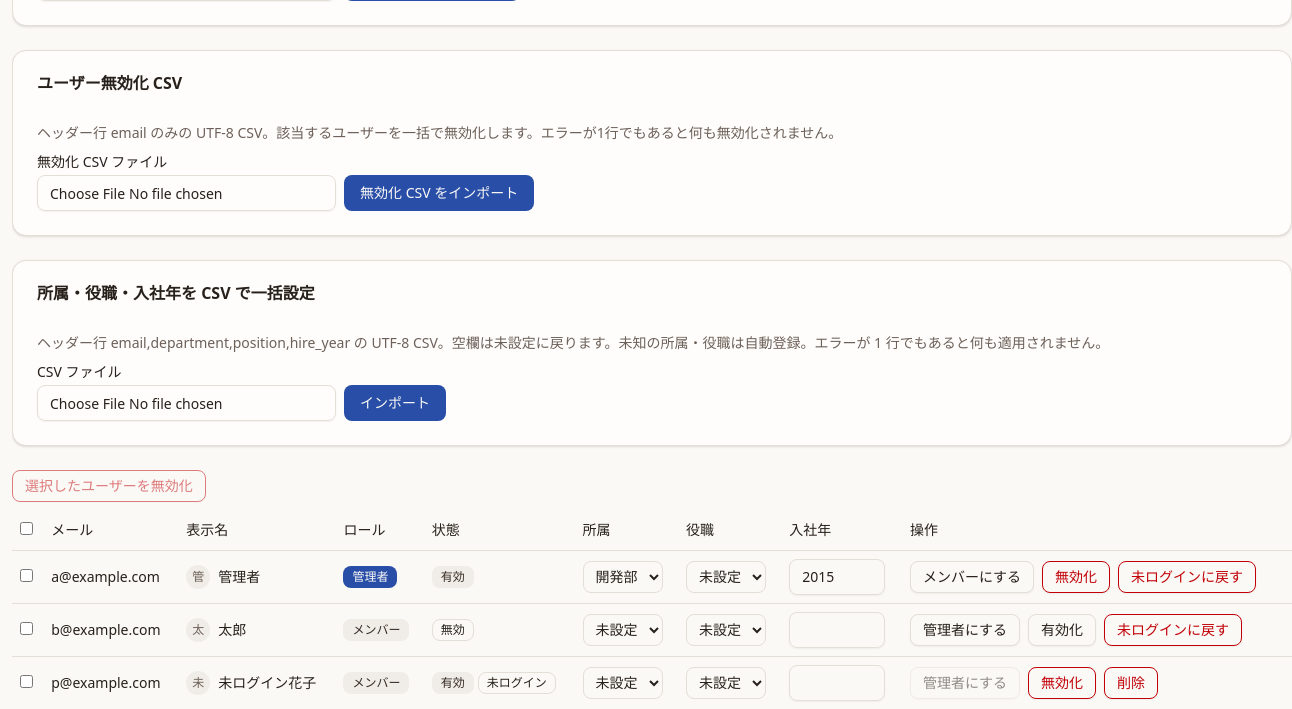
Scenario: AdminUsersPage › 一括無効化に成功すると選択がクリアされ一覧が refetch される
(page scrolled)
expect the text "a@example.com" is shown: met, box [43,550,178,603]
Click the checkbox named "管理者 を選択" at [26, 575], box [20,568,33,582]
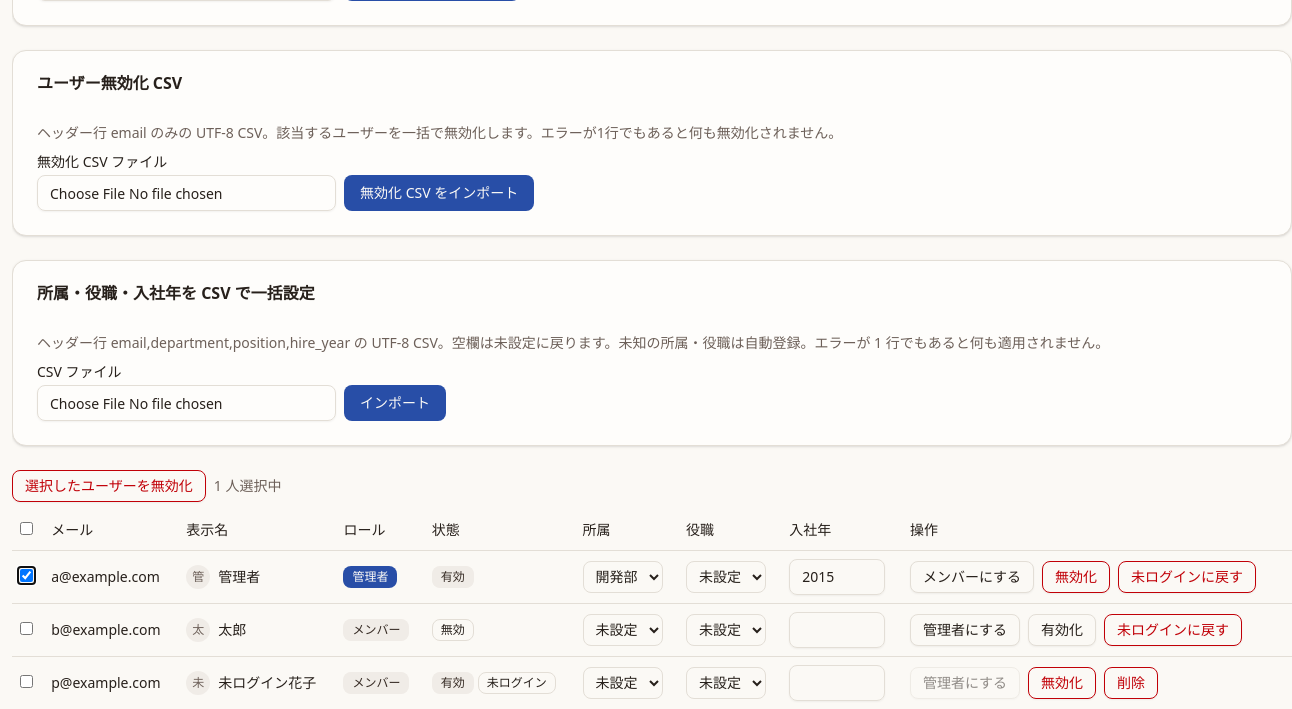
Click the checkbox named "未ログイン花子 を選択" at [26, 681], box [20,674,33,688]
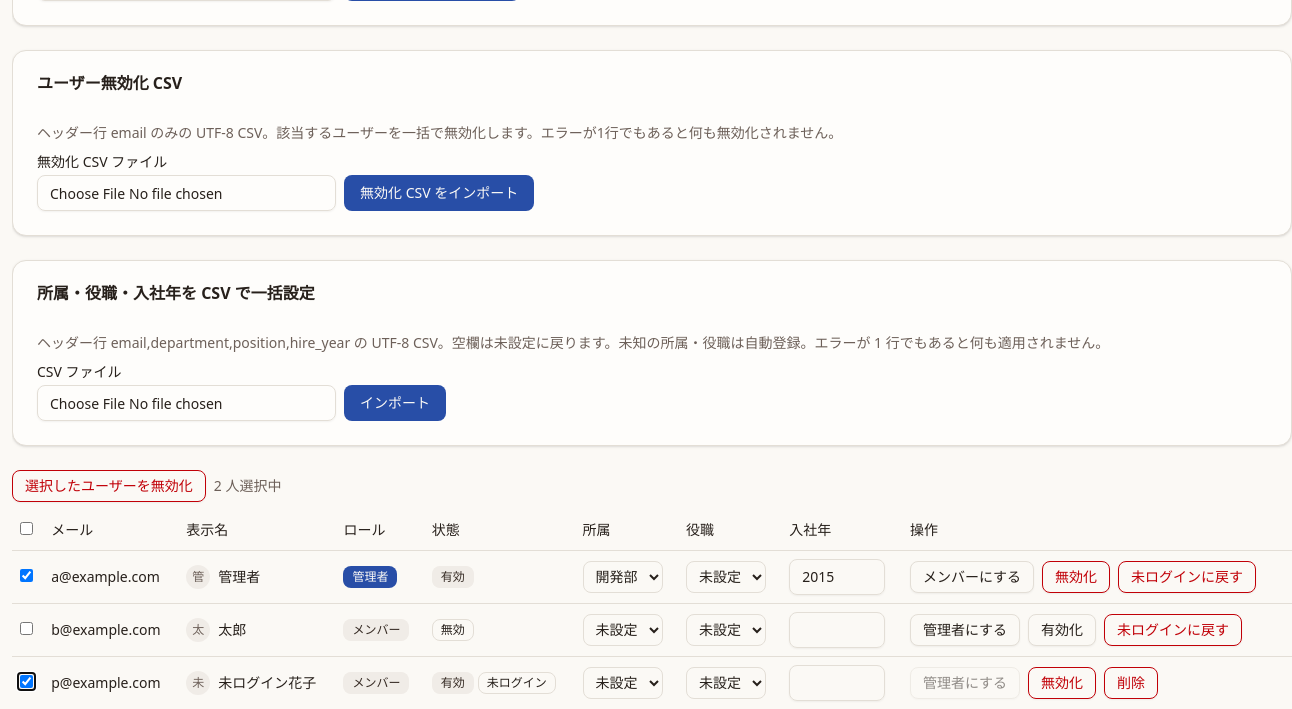
expect the text "2 人選択中" is shown: met, box [214,476,281,496]
Click the button "選択したユーザーを無効化" at [109, 486], box [12,470,206,502]
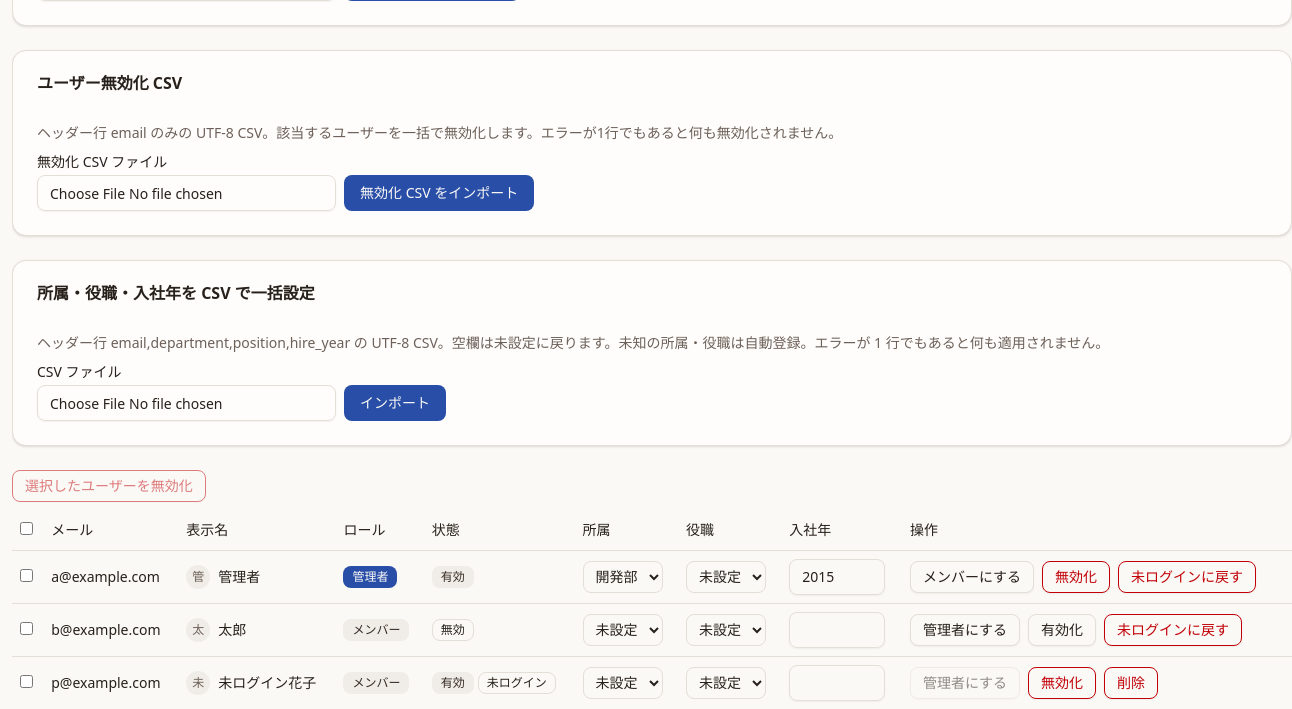
expect the checkbox named "管理者 を選択" is not checked: met, box [20,568,33,582]
expect the text "人選択中" is gone: met
